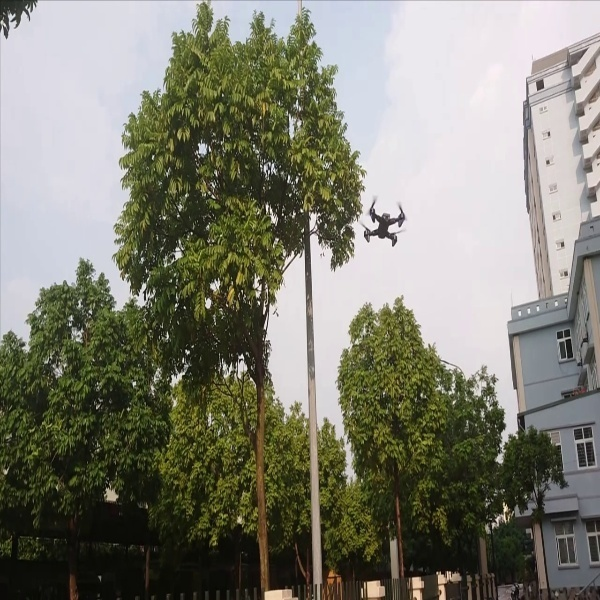drone: (353, 187, 410, 254)
